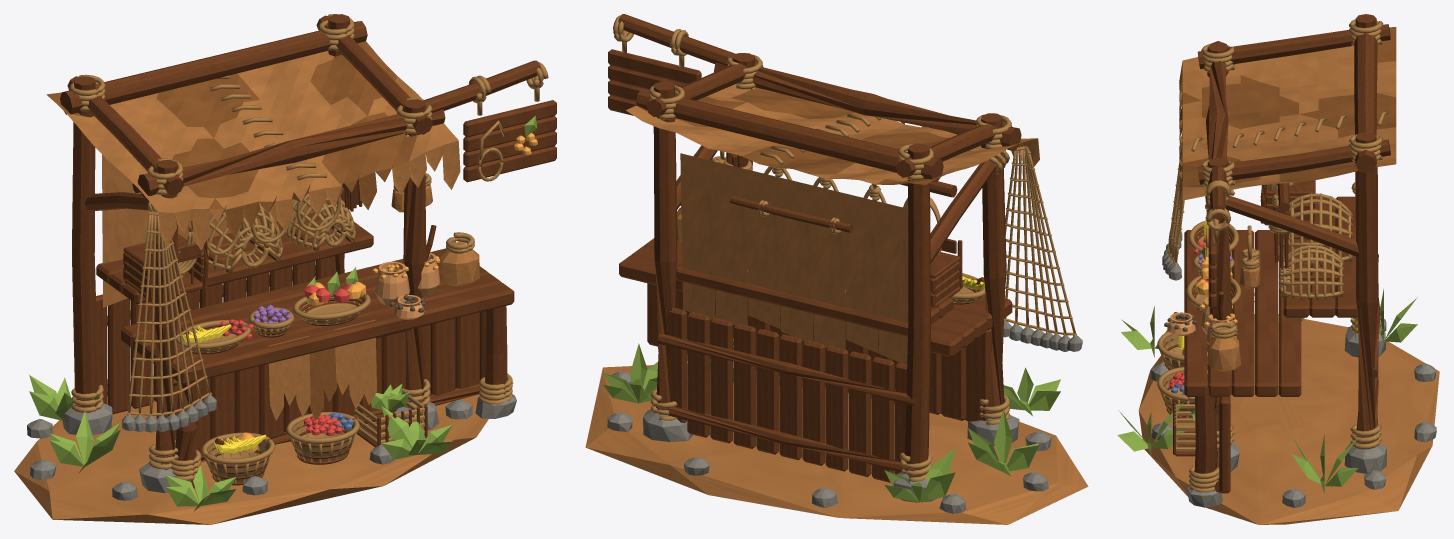
Rendered from hunter_stall.glb.
The picture shows the model from 3 angles, left to right: view 1: azimuth 30°, elevation 25°; view 2: azimuth 150°, elevation 25°; view 3: azimuth 270°, elevation 25°; orthographic projection. The views are drawn at different scales.
Visible parts, largest first — view 1: Draped spotted hide roof (×2), Sandy ground, Main support post, Counter top plank, Counter front board, Roof crossbeam, Back wall plank, Ground broad leaf, Counter hide drape (×2), Ragged canopy fringe (×2), Hunter sign timber board, Hanging net vertical cords (+36 smaller); view 2: Hanging rear hide, Sandy ground, Back wall plank, Main support post, Draped spotted hide roof (×2), Roof crossbeam, Ground broad leaf, Counter front board, Back wall rail, Hanging net vertical cords, Counter top plank, Trap display shelf (+15 smaller); view 3: Sandy ground, Draped spotted hide roof (×2), Counter top plank, Main support post, Roof side beam, Roof crossbeam, Trap display shelf, Ground broad leaf, Rear side brace, Ground rocks, Upper frame lashing, Counter front leg (+28 smaller).
Boxes of the visible parts, x1,y1,x2,y2 form: Draped spotted hide roof (×2): [46, 41, 458, 212]; Sandy ground: [14, 382, 513, 524]; Main support post: [72, 14, 426, 464]; Counter top plank: [121, 248, 514, 384]; Counter front board: [173, 311, 485, 452]; Roof crossbeam: [60, 21, 445, 197]; Back wall plank: [96, 256, 336, 414]; Ground broad leaf: [29, 375, 452, 511]; Counter hide drape (×2): [268, 319, 377, 420]; Ragged canopy fringe (×2): [158, 140, 460, 250]; Hunter sign timber board: [463, 100, 556, 182]; Hanging net vertical cords: [128, 214, 210, 413]; Hanging rear hide: [680, 153, 908, 364]; Sandy ground: [585, 363, 1088, 524]; Back wall plank: [665, 307, 907, 482]; Main support post: [653, 53, 1006, 476]; Draped spotted hide roof (×2): [626, 84, 1037, 184]; Roof crossbeam: [636, 62, 1021, 181]; Ground broad leaf: [603, 343, 1060, 502]; Counter front board: [647, 283, 992, 421]; Back wall rail: [657, 333, 914, 476]; Hanging net vertical cords: [1004, 149, 1075, 333]; Counter top plank: [619, 238, 1012, 357]; Trap display shelf: [676, 264, 953, 336]; Sandy ground: [1138, 314, 1439, 524]; Draped spotted hide roof (×2): [1182, 27, 1396, 200]; Counter top plank: [1184, 230, 1301, 396]; Main support post: [1205, 14, 1378, 443]; Roof side beam: [1197, 24, 1390, 184]; Roof crossbeam: [1206, 33, 1377, 185]; Trap display shelf: [1283, 196, 1357, 317]; Ground broad leaf: [1117, 289, 1417, 493]; Rear side brace: [1226, 195, 1358, 256]; Ground rocks: [1151, 319, 1436, 507]; Upper frame lashing: [1201, 19, 1383, 186]; Counter front leg: [1194, 380, 1217, 473].
Bounding box in the file's own units: 4.82 × 3.45 × 2.88.
Materials: 13 (5 with a texture image).
